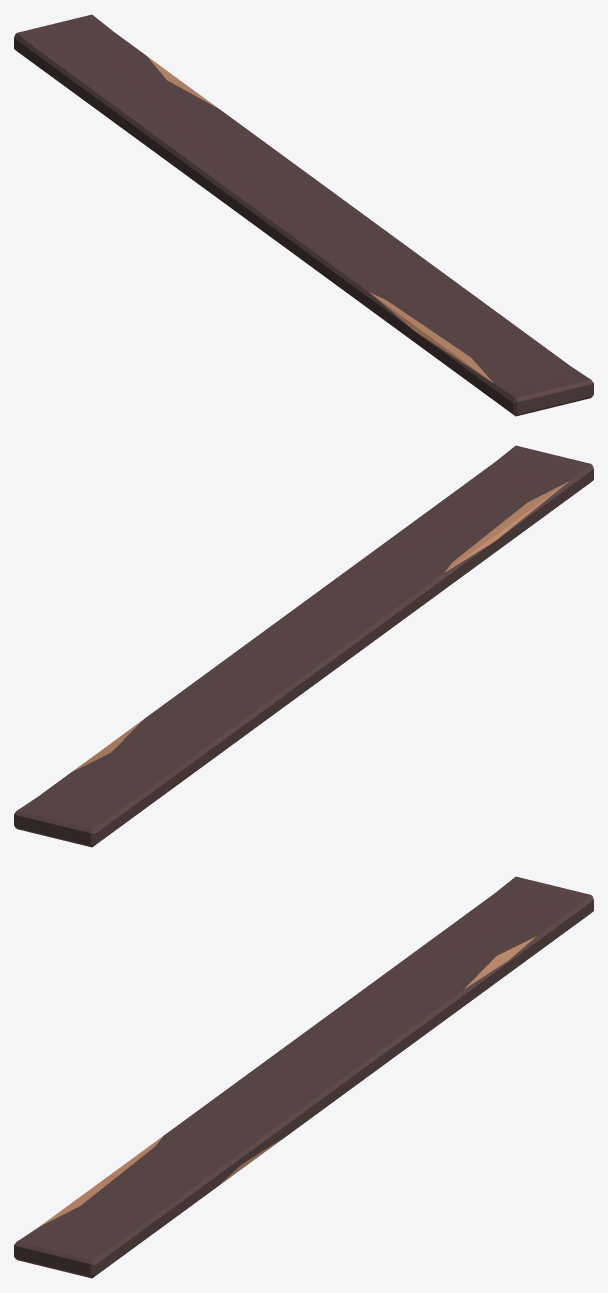
Rendered from wood_10.FBX.
3 renders of one model, top to bottom at view 1: azimuth 30°, elevation 25°; view 2: azimuth 150°, elevation 25°; view 3: azimuth 330°, elevation 25°, orthographic.
Parts seen in each view (by area): view 1: wood_10; view 2: wood_10; view 3: wood_10.
Part boxes in pixels (box(x1,y1,x2,y2)): wood_10: box(14, 14, 593, 416); wood_10: box(14, 445, 593, 847); wood_10: box(14, 876, 593, 1278).
Size of the model in its own units: 19.09 by 4.14 by 205.
